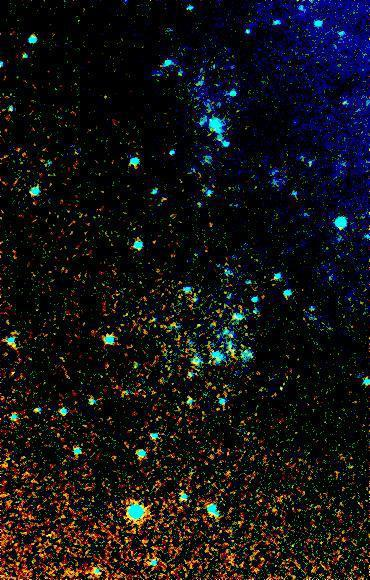star: (92, 323, 122, 353)
